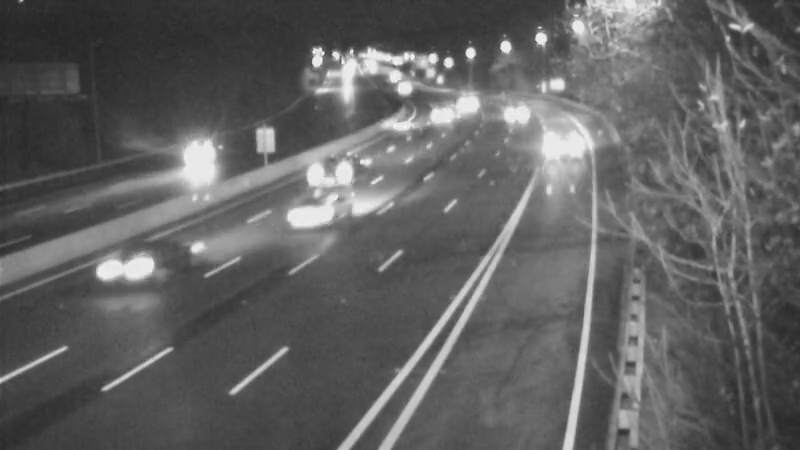vehicle: (292, 128, 372, 208), (270, 173, 350, 253), (97, 228, 177, 308), (158, 118, 238, 198), (379, 61, 429, 111), (442, 76, 492, 126), (487, 86, 537, 136), (419, 89, 469, 139), (379, 101, 429, 151), (532, 117, 582, 167)
